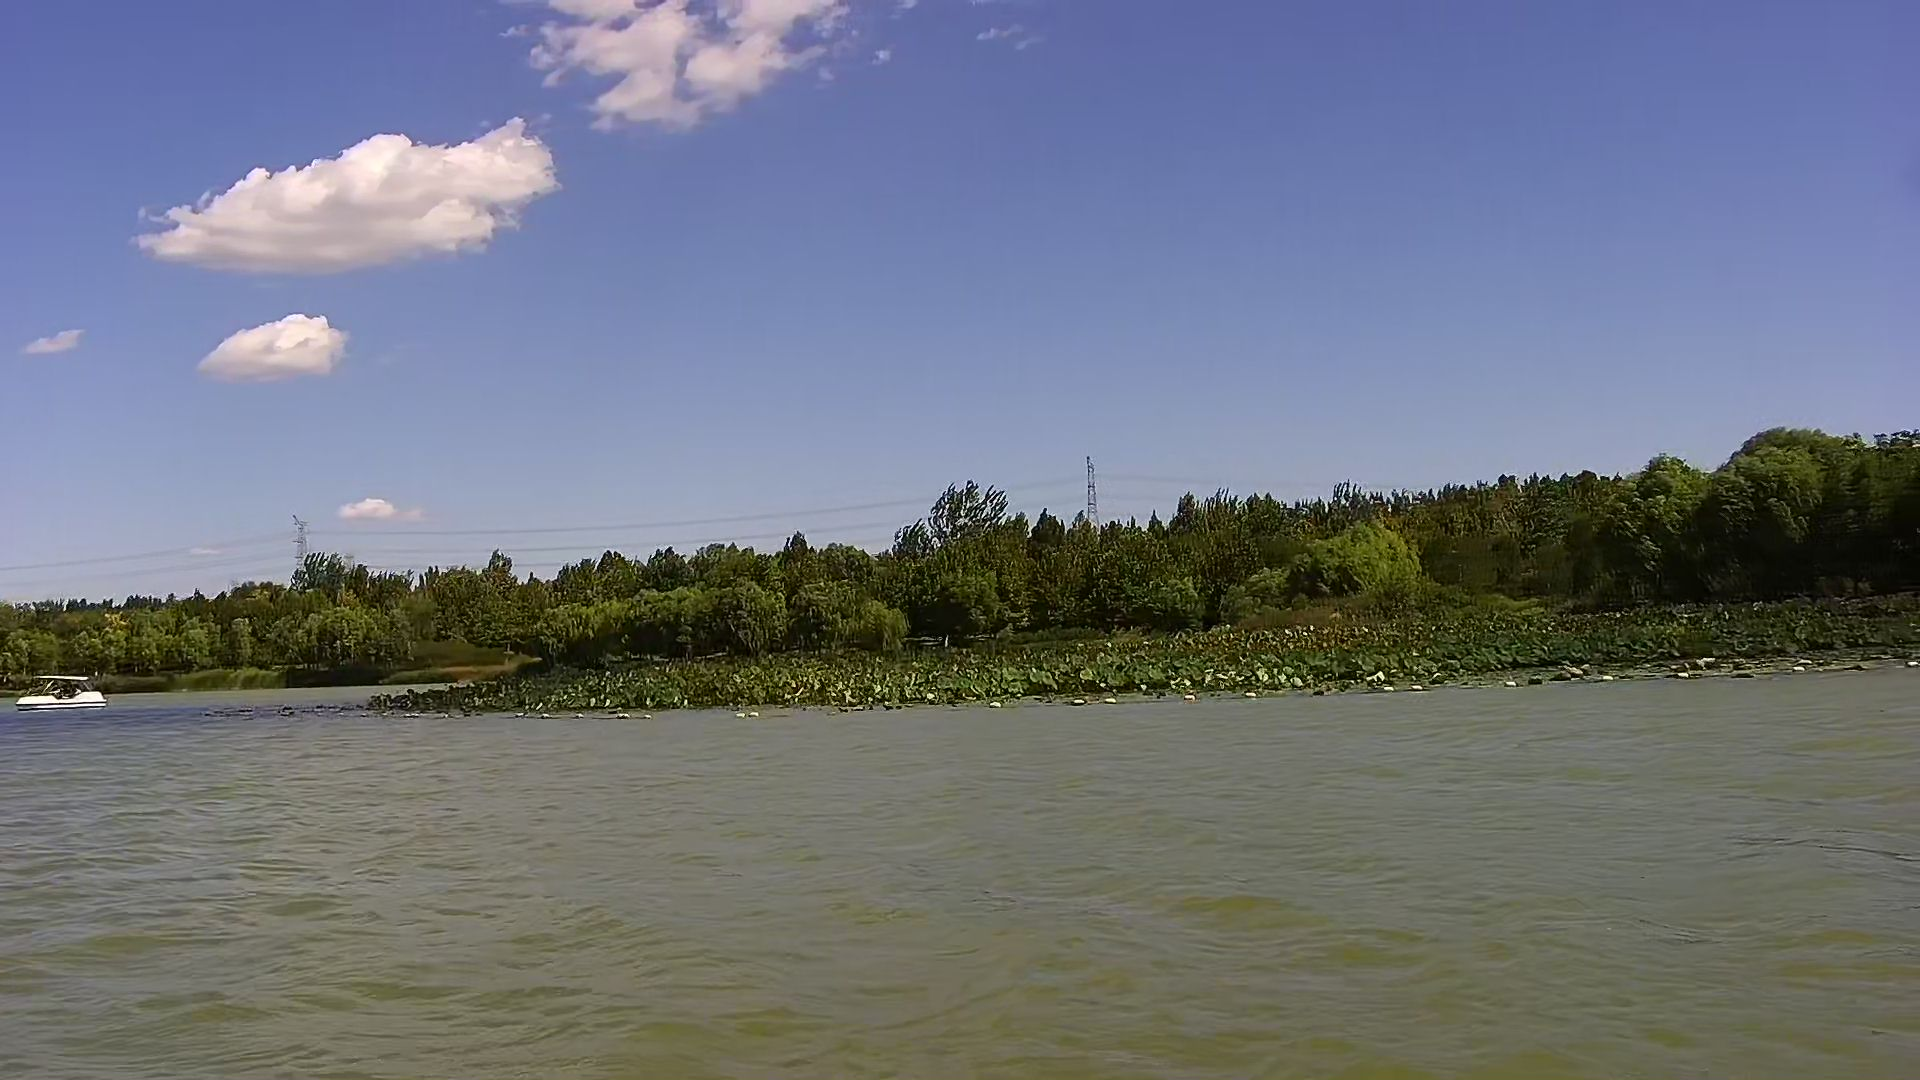boat: (15, 673, 107, 711)
